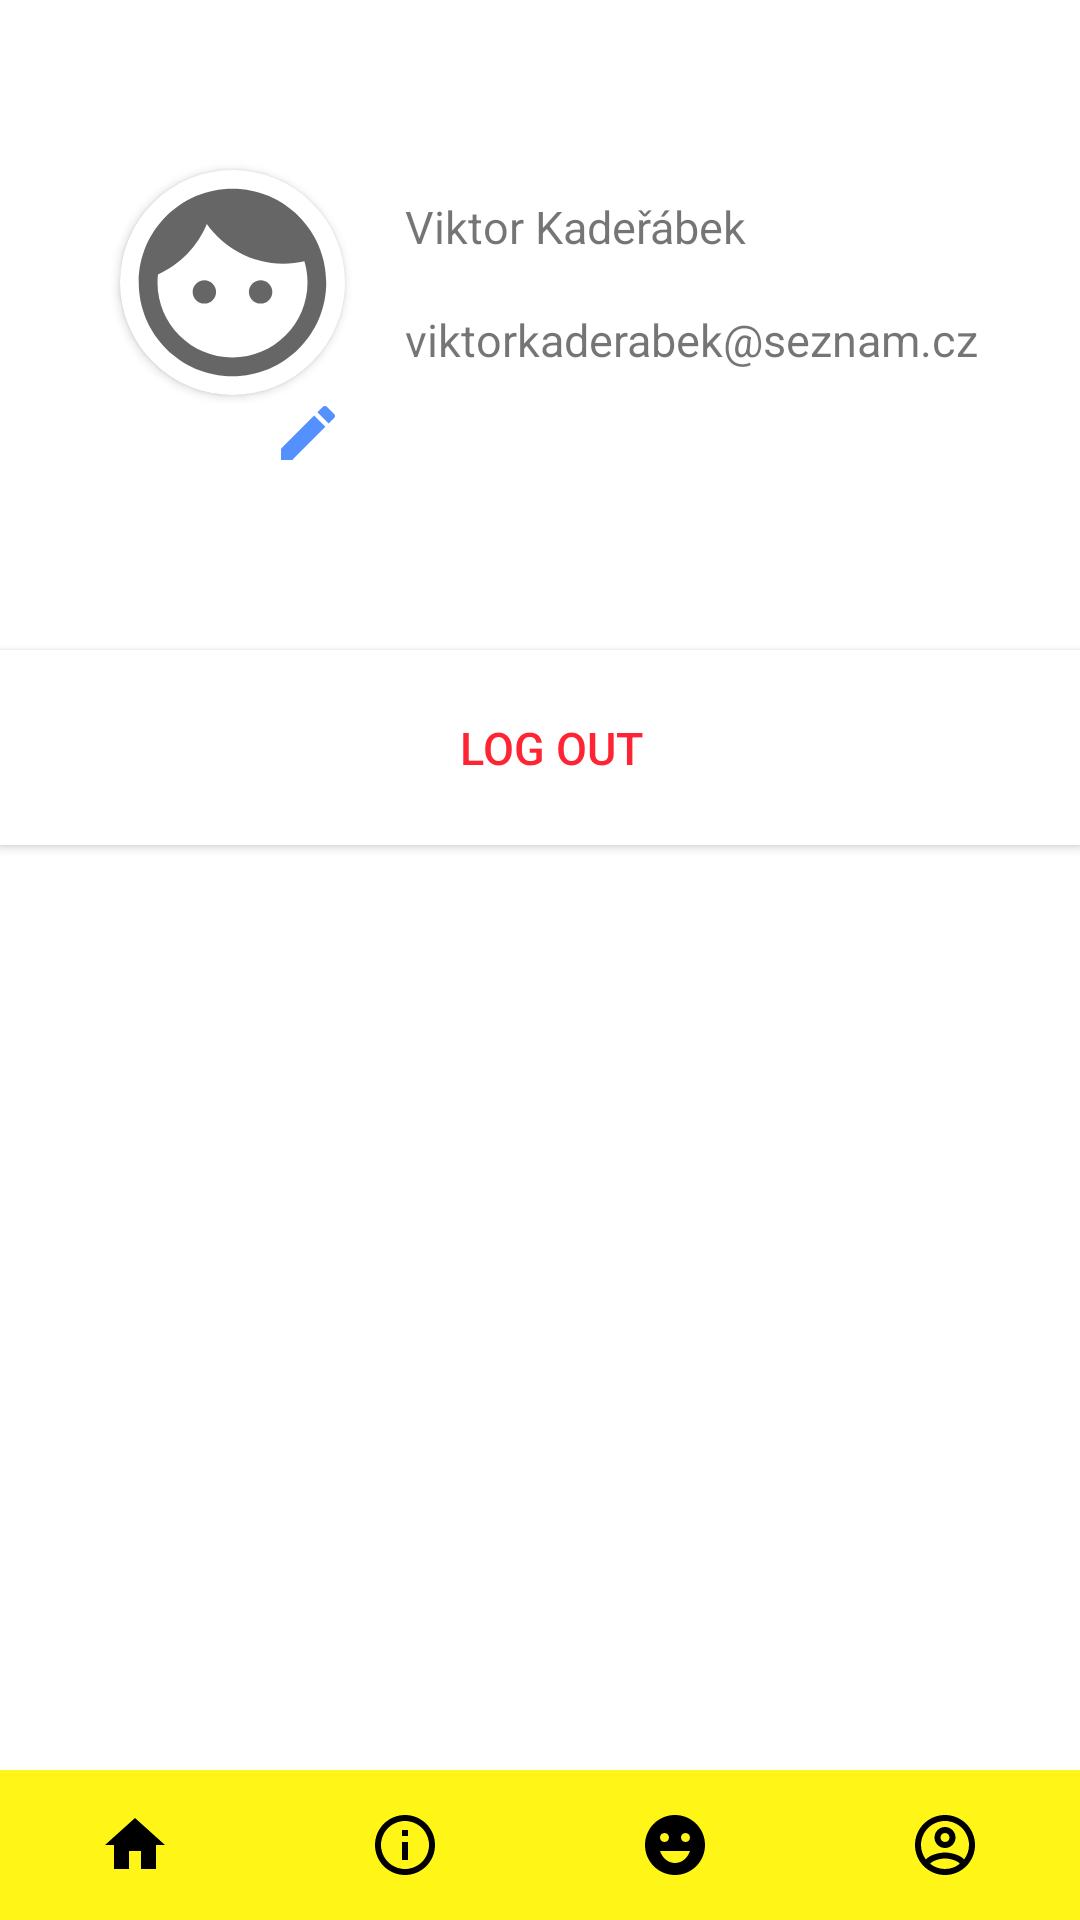

Icons on this 1080x1920 Android screen, each with its box as detection(x1, y1, x2, y2):
account circle: detection(915, 1815, 975, 1875)
edit: detection(281, 406, 335, 460)
emoji emotions: detection(645, 1815, 705, 1875)
face: detection(120, 184, 331, 395)
home: detection(105, 1818, 165, 1869)
info: detection(375, 1815, 435, 1875)
